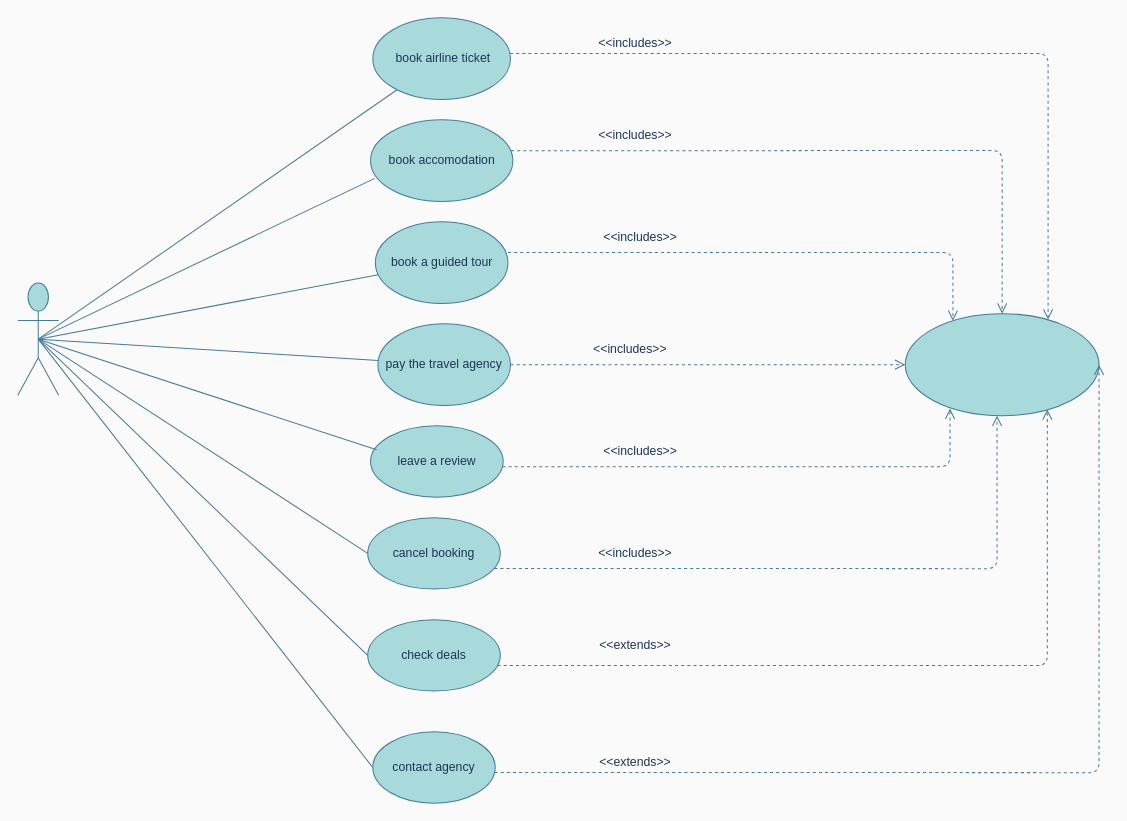
This 1127x821 diagram has some shape labels left out. The shapes that lost their labels are listed below. From the top down, each one's box as (x1, y1, x2, y2) in pixels, then its label:
(17, 282, 59, 395): Actor
(904, 313, 1099, 416): authentification
